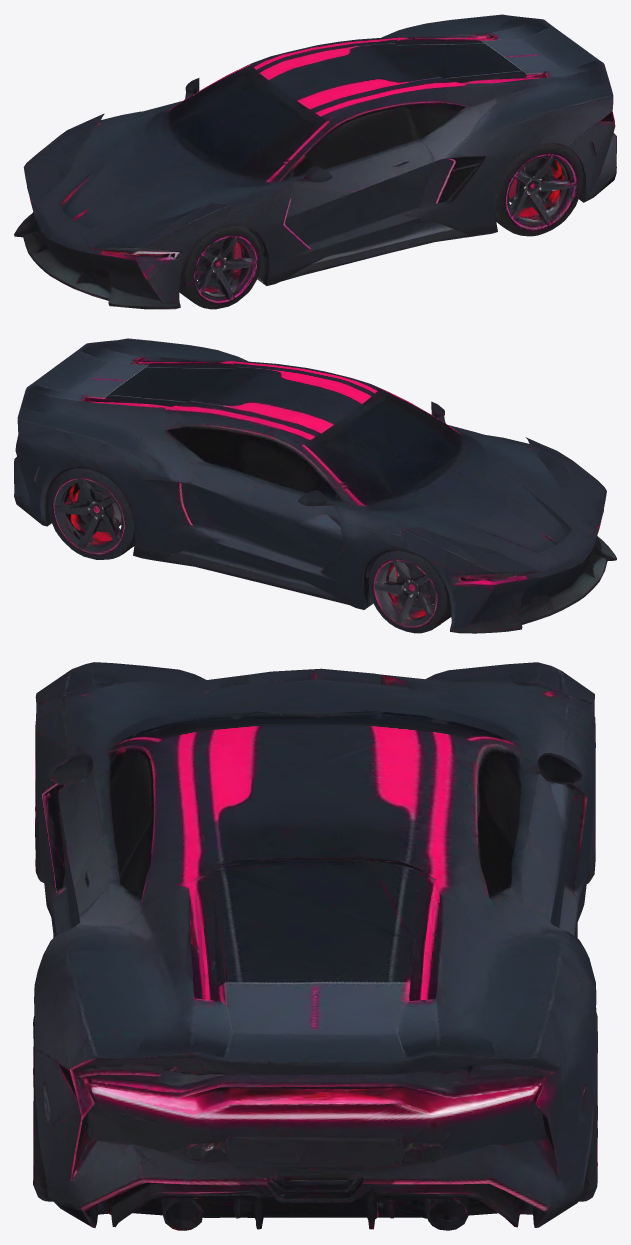
Rendered from hero-car.glb.
3 views of the same model, one above another, from view 1: azimuth 30°, elevation 25°; view 2: azimuth 150°, elevation 25°; view 3: azimuth 270°, elevation 25° (orthographic). The views are drawn at different scales.
Bounding box in the file's own units: 1.9 × 0.5034 × 0.8736.
1 material, 1 textured.
